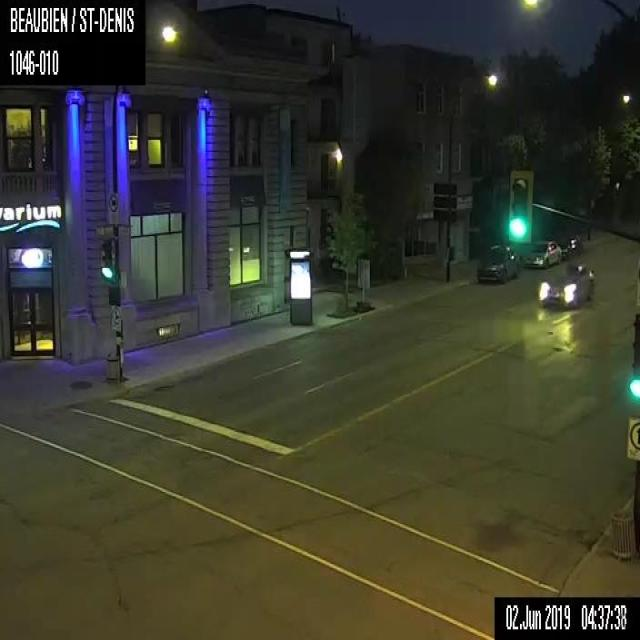vehicle: (538, 262, 593, 308), (476, 244, 520, 284), (520, 238, 561, 268), (556, 232, 582, 260)
